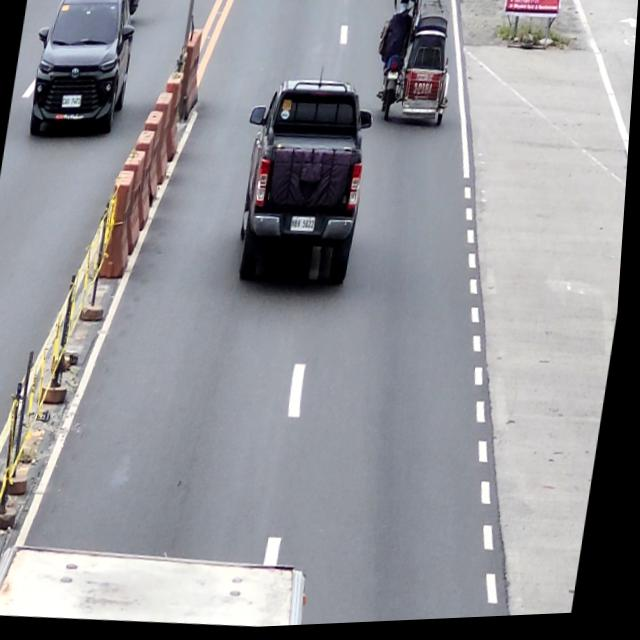Car: (230, 74, 380, 292)
License-Plate: (292, 217, 319, 237), (387, 73, 399, 84)
Tricycle: (371, 0, 467, 133)
Truck: (0, 529, 323, 639)
